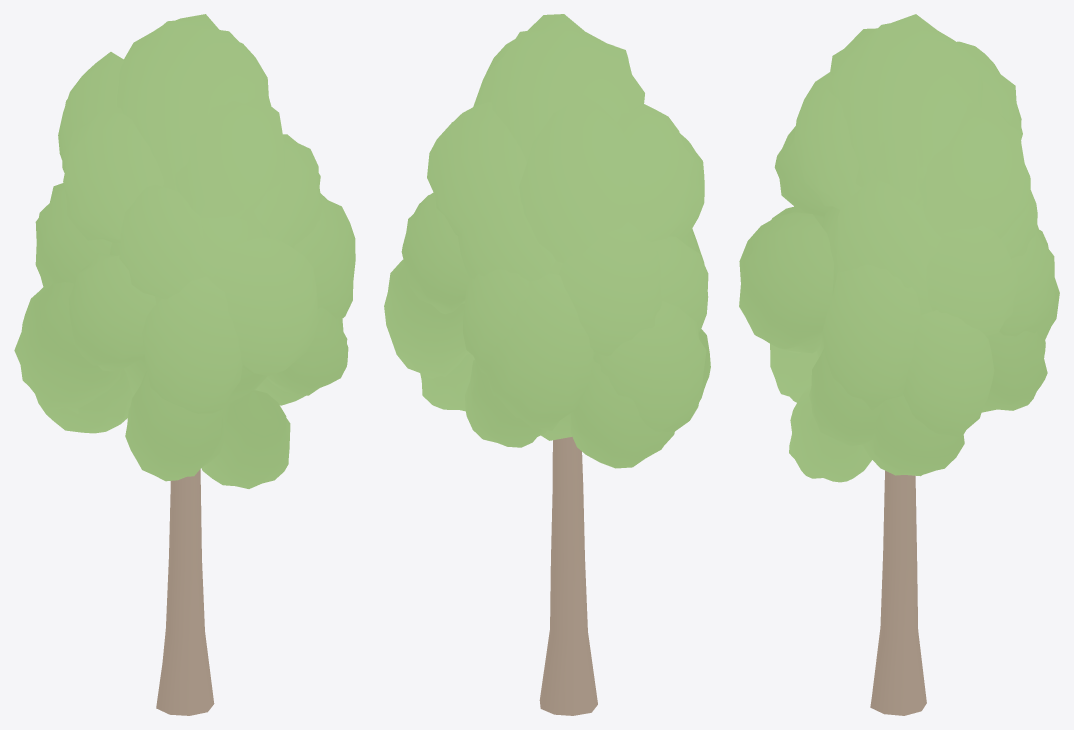
File: Blender_Alder_1.glb
The picture shows the model from 3 angles, left to right: view 1: azimuth 30°, elevation 25°; view 2: azimuth 150°, elevation 25°; view 3: azimuth 270°, elevation 25°; orthographic projection.
Visible parts, largest first — view 1: Blender_Alder_1; view 2: Blender_Alder_1; view 3: Blender_Alder_1.
Boxes of the visible parts, left/top/right/bottom form: Blender_Alder_1: left=14, top=14, right=355, bottom=715; Blender_Alder_1: left=384, top=14, right=710, bottom=715; Blender_Alder_1: left=739, top=14, right=1059, bottom=715.
Size of the model in its own units: 9.35 by 20.12 by 8.54.
